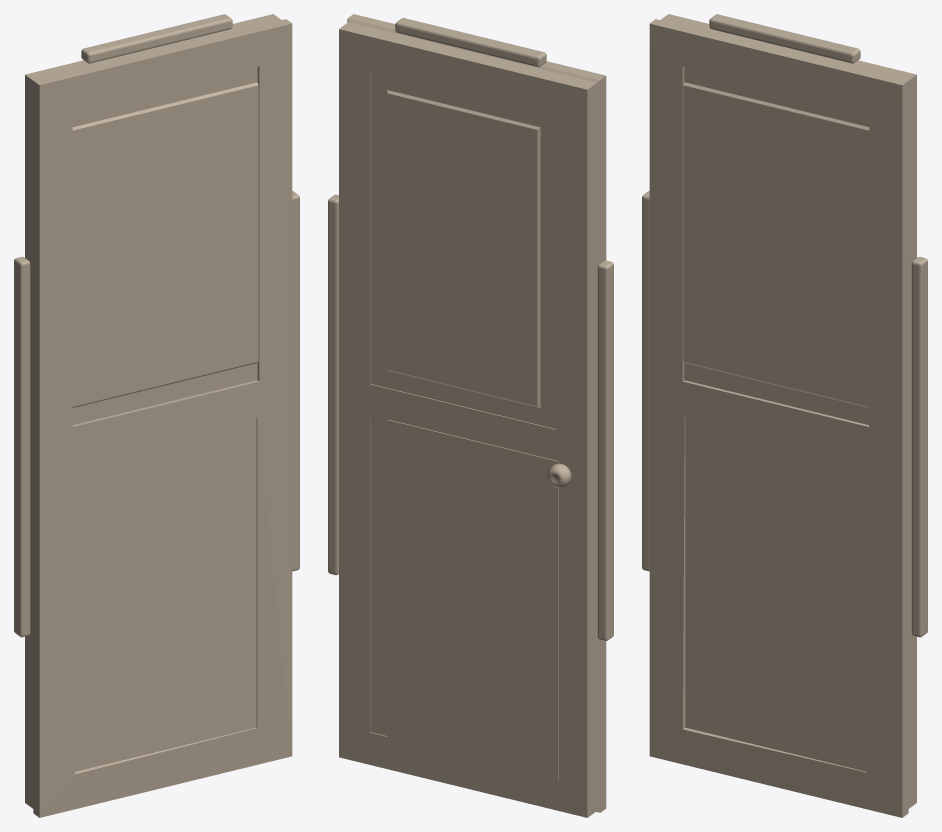
Rendered from 3dcodebench_PanelDoor_seed0.glb.
3 views of the same model, side by side, from view 1: azimuth 30°, elevation 25°; view 2: azimuth 150°, elevation 25°; view 3: azimuth 330°, elevation 25° (orthographic).
Visible parts, largest first — view 1: object; view 2: object; view 3: object.
Part boxes in pixels (<box>): object: <box>14,14,299,817</box>; object: <box>328,14,613,817</box>; object: <box>642,14,927,817</box>.
Bounding box in the file's own units: 0.9097 × 2.32 × 0.1431.
